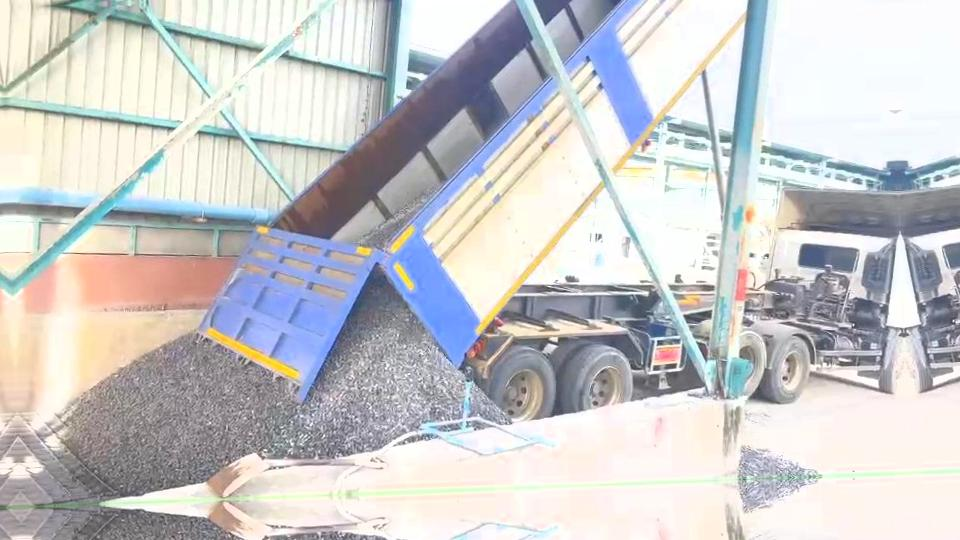gravel: (63, 272, 463, 494), (357, 187, 436, 247), (739, 446, 819, 479), (472, 388, 507, 422)
